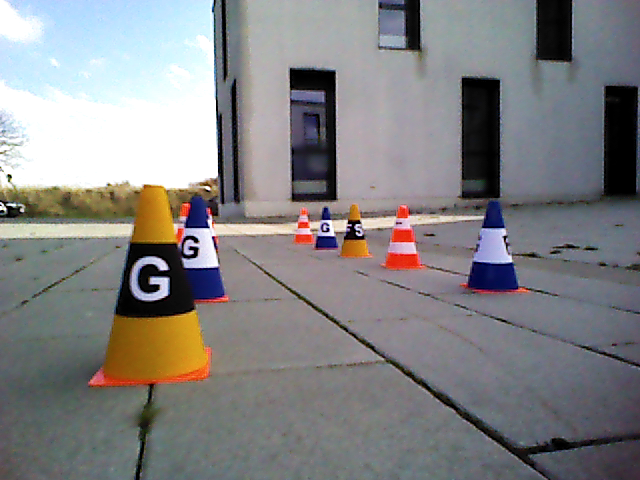bluecone: (468, 201, 521, 292), (187, 197, 222, 299), (316, 207, 339, 247)
orangeconesmall: (385, 204, 421, 268), (294, 209, 313, 242)
yellowcone: (100, 185, 199, 381), (341, 205, 370, 254)
